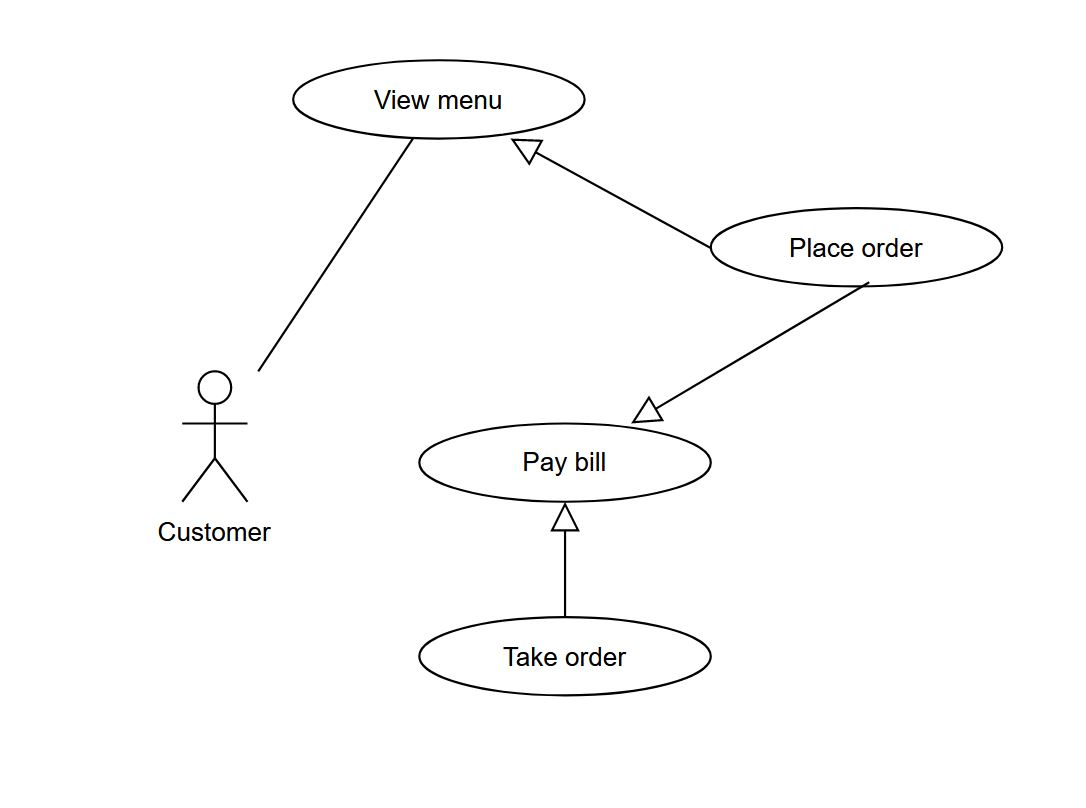actor: (177, 369, 248, 504)
association: (256, 137, 411, 372)
generalization: (631, 283, 868, 423), (510, 136, 707, 246), (551, 502, 575, 616)
text: (778, 231, 928, 271), (366, 81, 509, 118), (496, 639, 630, 674), (152, 517, 273, 550), (514, 445, 613, 475)
use_case: (292, 57, 588, 138), (419, 421, 714, 502), (707, 207, 1005, 287), (419, 615, 711, 696)
